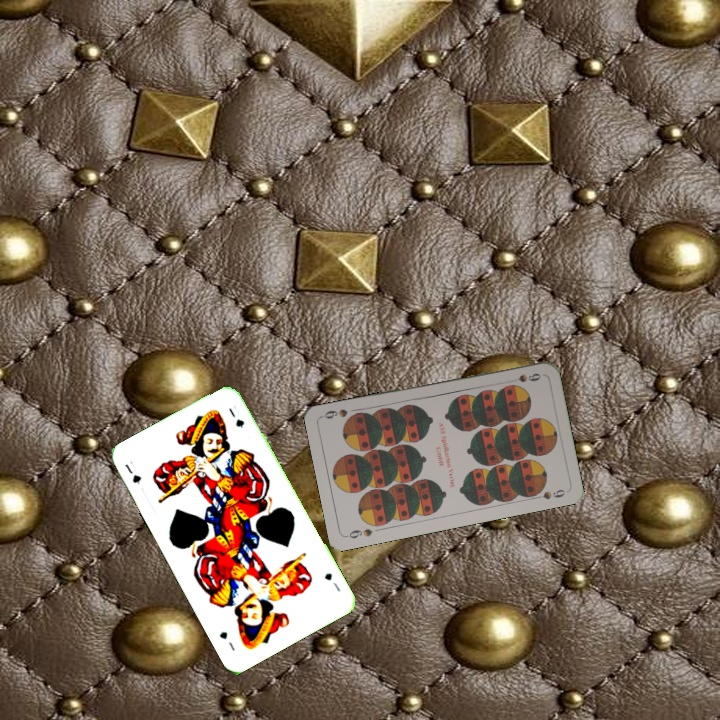GU: (121, 457, 144, 487), (320, 569, 343, 594)
S9: (504, 369, 543, 385), (343, 524, 375, 541)
